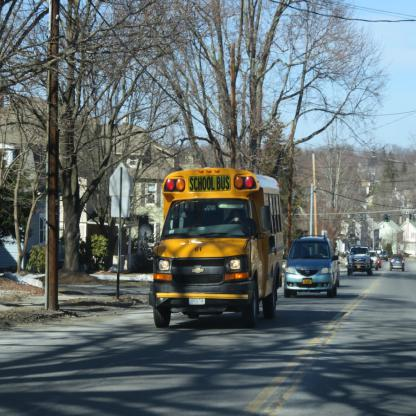Bus: (146, 164, 285, 330)
